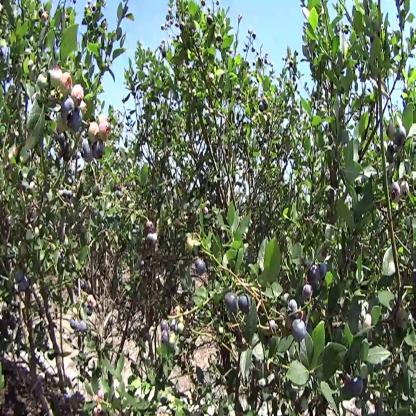intermediate: (60, 72, 72, 94), (51, 68, 64, 87), (73, 86, 85, 102), (100, 120, 110, 136), (363, 315, 373, 331), (186, 238, 193, 253), (152, 233, 159, 245), (89, 296, 94, 308), (147, 233, 152, 244), (98, 405, 102, 413)
mature: (61, 100, 75, 121), (293, 318, 307, 339), (81, 139, 92, 163), (309, 263, 320, 285), (70, 113, 83, 131), (396, 125, 406, 148), (390, 181, 401, 201), (227, 293, 237, 315), (353, 373, 362, 395), (196, 258, 207, 276), (240, 293, 250, 311), (93, 140, 103, 157), (318, 264, 328, 281), (302, 286, 314, 299), (289, 300, 298, 317), (387, 149, 395, 164), (20, 280, 29, 292), (15, 268, 23, 279), (42, 13, 49, 24), (163, 331, 170, 342), (162, 320, 169, 330), (71, 318, 77, 329), (80, 321, 86, 331), (75, 322, 81, 331)
young: (89, 124, 100, 140), (387, 122, 394, 139), (171, 337, 177, 351), (180, 322, 185, 334)
